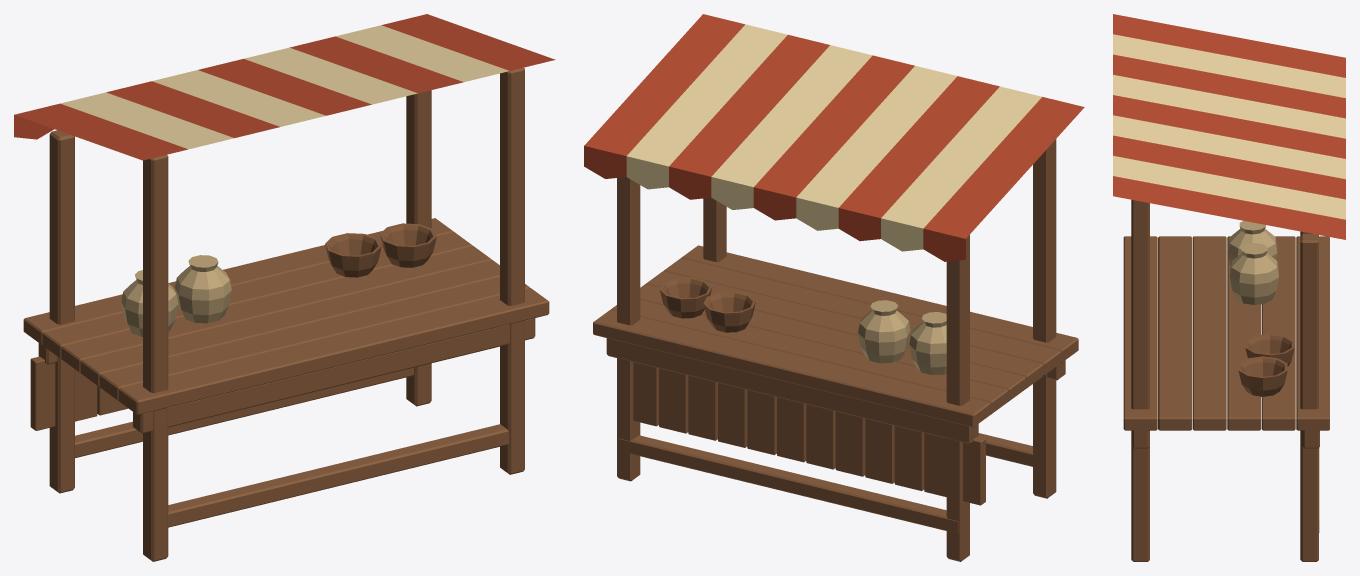
Rendered from market-stall.glb.
The picture shows the model from 3 angles, left to right: view 1: azimuth 30°, elevation 25°; view 2: azimuth 150°, elevation 25°; view 3: azimuth 270°, elevation 25°; orthographic projection. The views are drawn at different scales.
Visible parts, largest first — view 1: Board.013, Board.001, Board.003, Board, Board.007, Board.006, Board.011, Board.012, Board.010, Board.009, Board.002, canvas (+16 smaller); view 2: Board.008, canvas.004, canvas.006, canvas.007, canvas.002, canvas.003, canvas.001, canvas, canvas.005, canvas.008, Board.001, Board.005 (+26 smaller); view 3: Board.011, Board.012, Board.003, Board.002, canvas.008, canvas.001, canvas.004, canvas.005, canvas.006, canvas.007, canvas, canvas.002 (+11 smaller).
Part boxes in pixels (<box>): Board.013: <box>119,288,549,414</box>; Board.001: <box>143,155,168,561</box>; Board.003: <box>500,67,524,474</box>; Board: <box>49,130,74,493</box>; Board.007: <box>168,424,508,527</box>; Board.006: <box>133,318,535,433</box>; Board.011: <box>81,260,499,386</box>; Board.012: <box>100,276,529,400</box>; Board.010: <box>61,246,491,372</box>; Board.009: <box>42,232,472,359</box>; Board.002: <box>406,90,431,406</box>; canvas: <box>14,103,187,160</box>; Board.008: <box>593,310,990,427</box>; canvas.004: <box>753,55,914,220</box>; canvas.006: <box>669,34,829,199</box>; canvas.007: <box>626,24,787,189</box>; canvas.002: <box>838,76,999,241</box>; canvas.003: <box>796,65,957,230</box>; canvas.001: <box>881,86,1041,251</box>; canvas: <box>923,97,1084,261</box>; canvas.005: <box>711,45,872,209</box>; canvas.008: <box>584,14,744,178</box>; Board.001: <box>1033,139,1056,498</box>; Board.005: <box>618,435,958,533</box>; Board.011: <box>1192,236,1226,430</box>; Board.012: <box>1158,236,1191,430</box>; Board.003: <box>1131,199,1149,561</box>; Board.002: <box>1300,234,1318,561</box>; canvas.008: <box>1113,176,1345,239</box>; canvas.001: <box>1113,34,1345,98</box>; canvas.004: <box>1113,95,1345,158</box>; canvas.005: <box>1113,115,1345,179</box>; canvas.006: <box>1113,135,1345,199</box>; canvas.007: <box>1113,156,1345,219</box>; canvas: <box>1113,14,1345,77</box>; canvas.002: <box>1113,54,1345,118</box>.
Size of the model in its own units: 2.5 by 2.4 by 1.35.
Materials: 3 (1 with a texture image).
